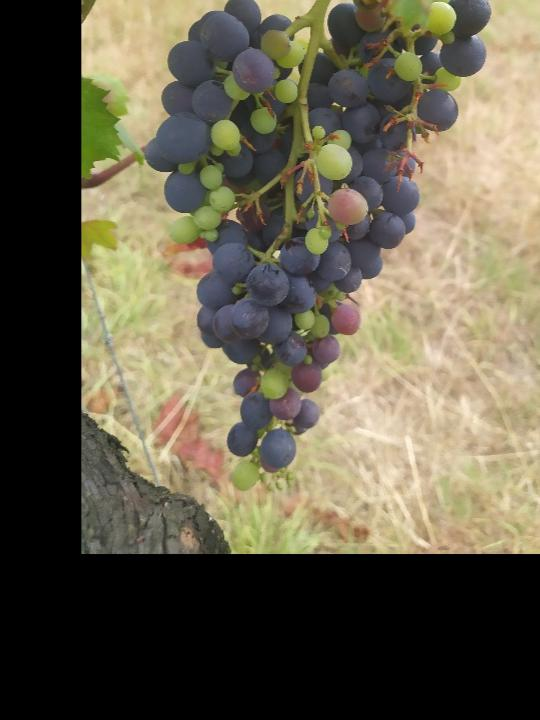grape: (140, 0, 494, 494)
